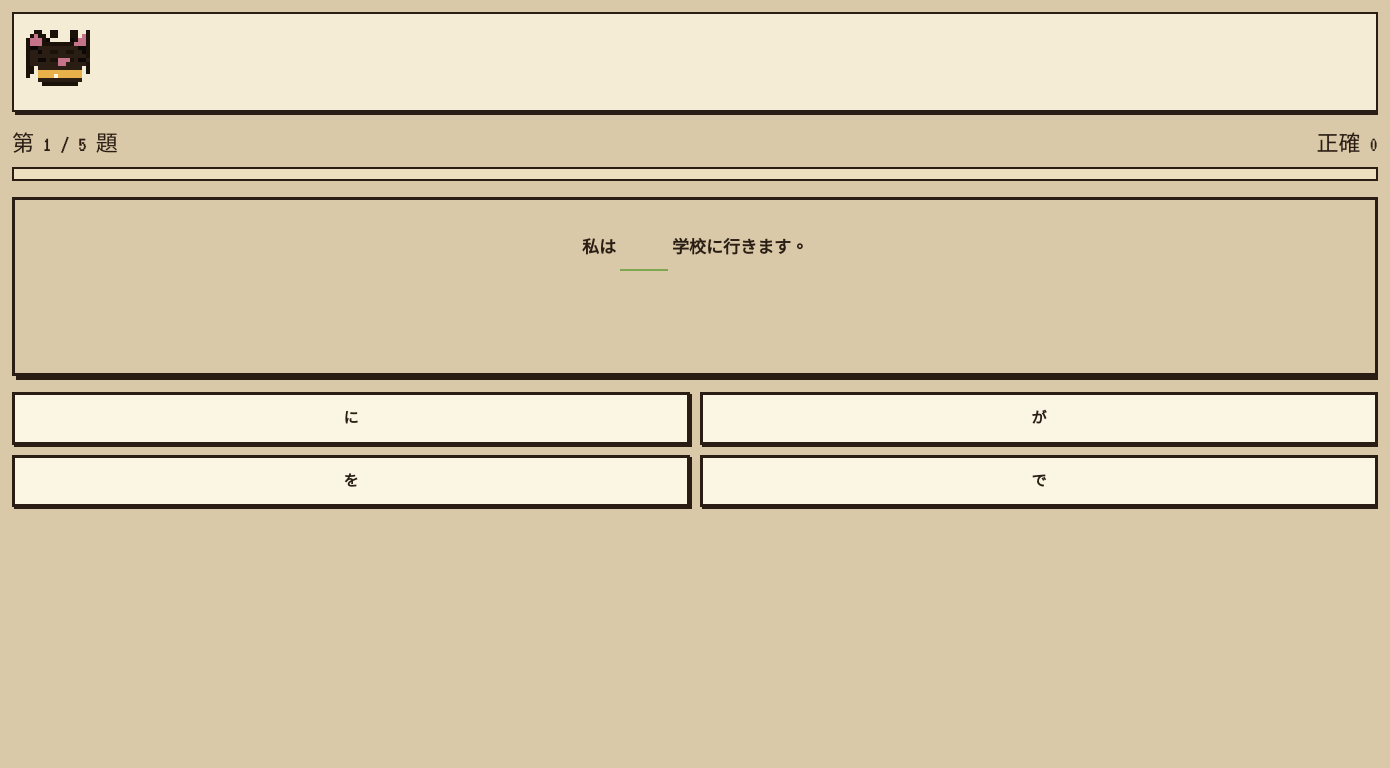
Test: GrammarQuiz › shows meaning and grammar note after picking
Click the button "に": coordinates (351, 419) 12,392 -> 690,445
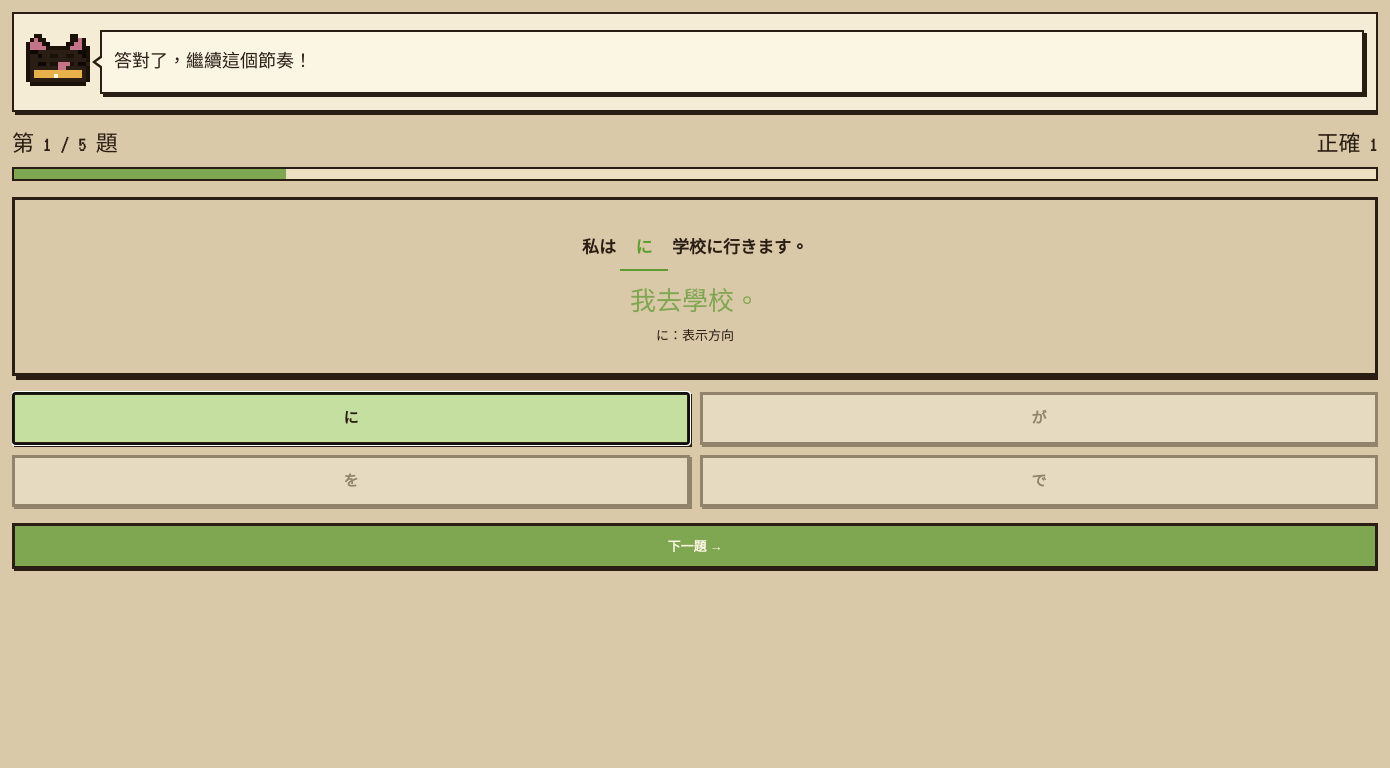
Check: the text "我去學校。" is shown, box 630,283 -> 760,322
